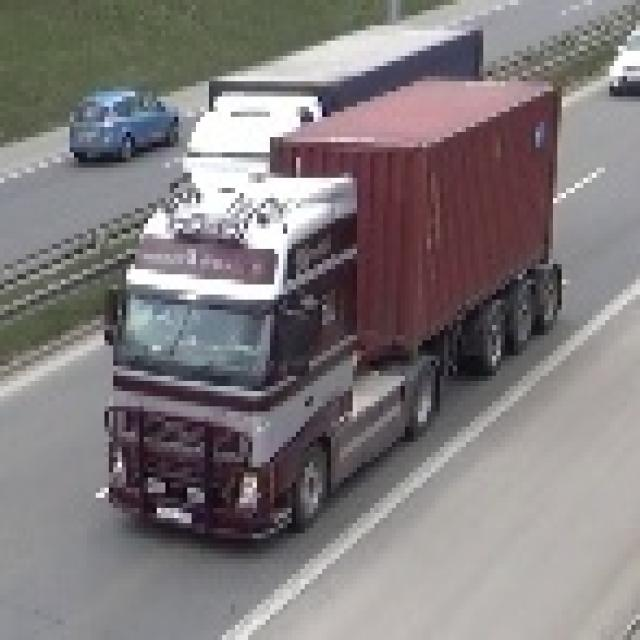SUV: (70, 89, 179, 160)
TRUCK: (109, 82, 561, 537)
